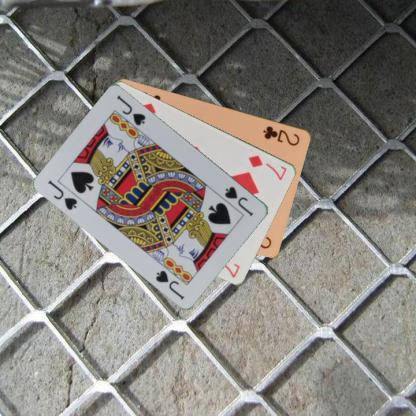2c: (260, 123, 302, 147)
7d: (246, 152, 288, 182)
Js: (45, 176, 79, 212), (222, 184, 256, 218)
